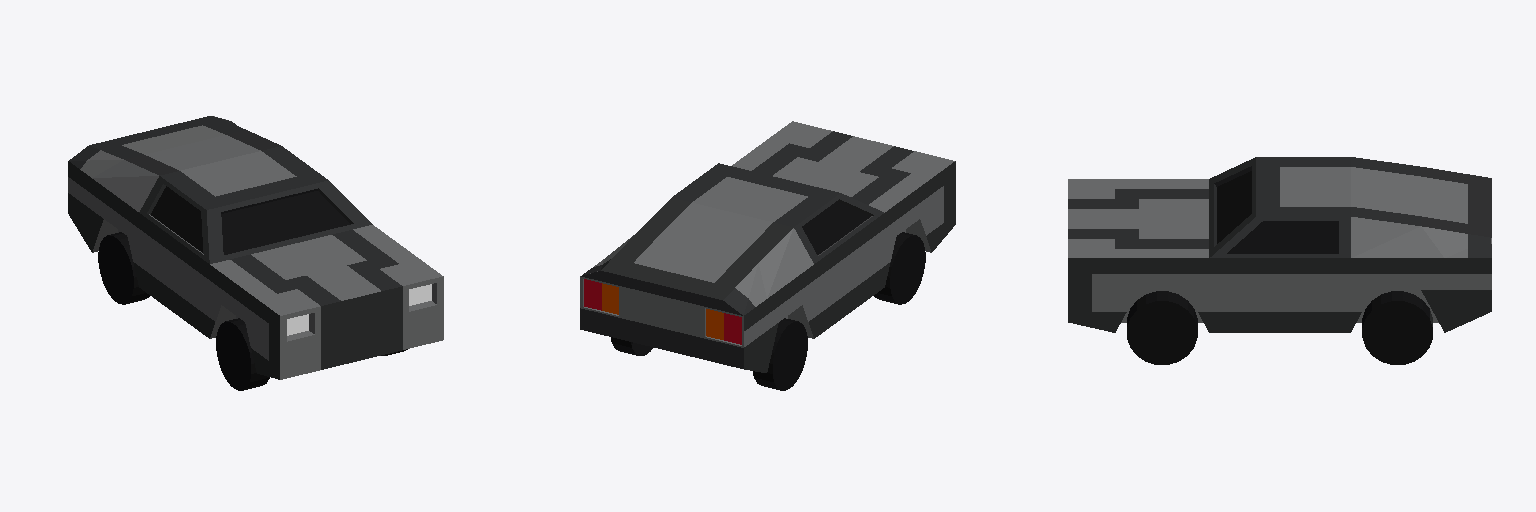
The picture shows the model from 3 angles: view 1: azimuth 30°, elevation 25°; view 2: azimuth 150°, elevation 25°; view 3: azimuth 270°, elevation 25°; orthographic projection.
Visible parts, largest first — view 1: circle; view 2: circle; view 3: circle.
Part boxes in pixels (x1,y1,x2,y2): circle: (68, 116, 443, 390); circle: (580, 121, 955, 390); circle: (1068, 157, 1491, 364).
Size of the model in its own units: 0.5 by 0.4062 by 1.12.
1 materials, 1 textured.